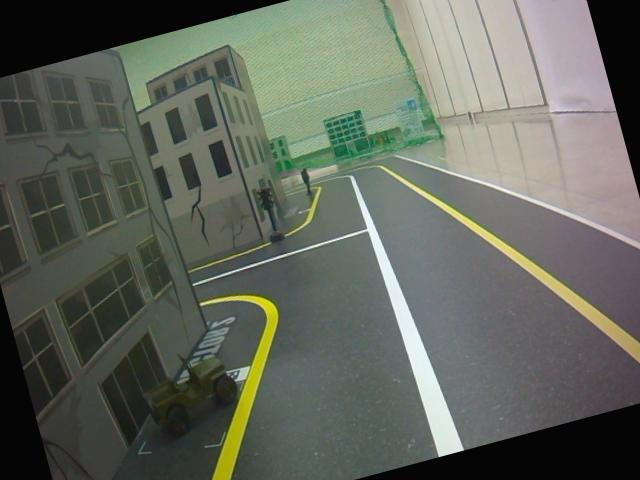Car: (133, 336, 253, 442)
Enemy: (300, 166, 316, 194)
